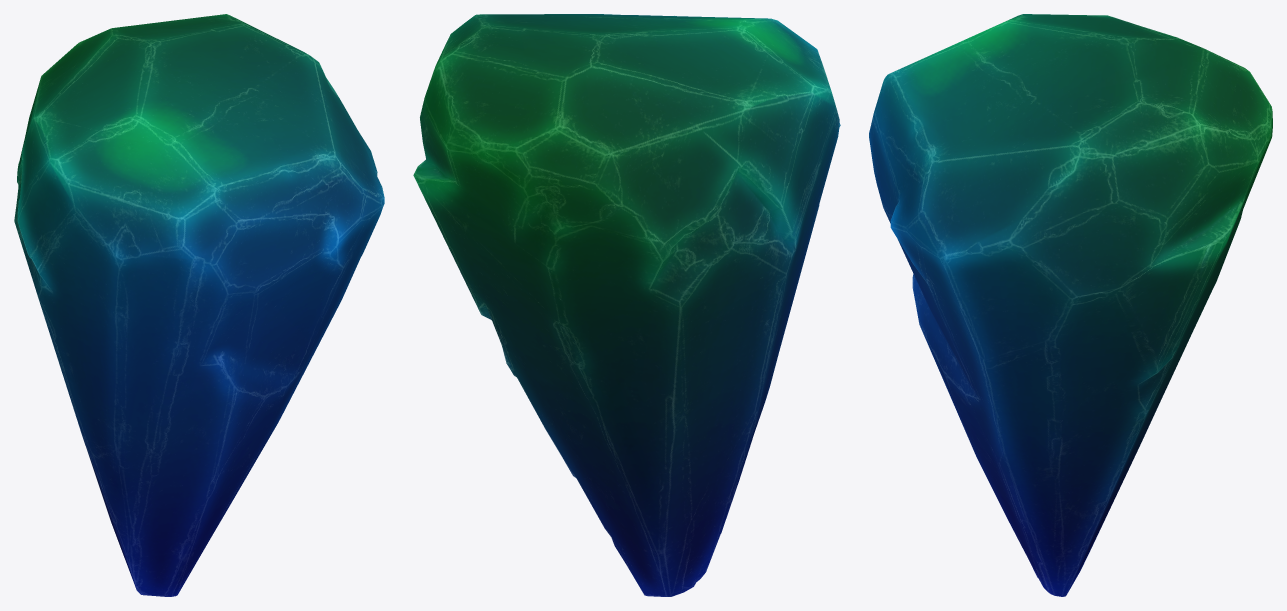
File: crystal_9.fbx
The picture shows the model from 3 angles, left to right: view 1: azimuth 30°, elevation 25°; view 2: azimuth 150°, elevation 25°; view 3: azimuth 270°, elevation 25°; orthographic projection. The views are drawn at different scales.
Visible parts, largest first — view 1: crystal_9; view 2: crystal_9; view 3: crystal_9.
Part boxes in pixels (x1,y1,x2,y2): crystal_9: [14, 14, 384, 596]; crystal_9: [413, 14, 840, 596]; crystal_9: [869, 14, 1272, 596].
Bounding box in the file's own units: 16.33 × 26.11 × 16.97.
1 material, 1 textured.
